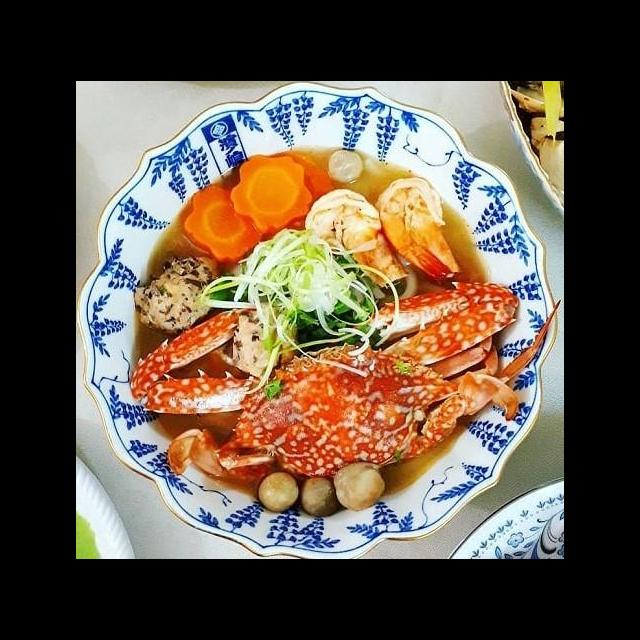tom: (296, 185, 414, 294), (374, 174, 463, 281)
vien moc: (130, 251, 222, 337), (216, 299, 292, 379)
